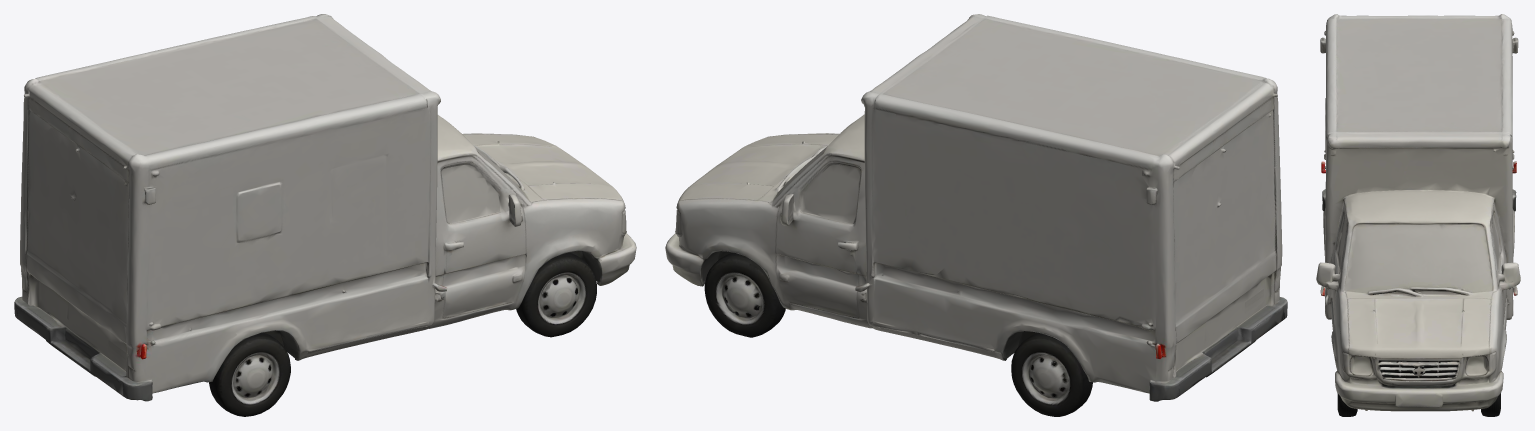
File: vehicle-cargo-van.glb
3 renders of one model, left to right at view 1: azimuth 30°, elevation 25°; view 2: azimuth 150°, elevation 25°; view 3: azimuth 270°, elevation 25°, orthographic. The views are drawn at different scales.
Visible parts, largest first — view 1: tripo_node_2541c3c2-4a29-4cbf-89cd-2e024337827b; view 2: tripo_node_2541c3c2-4a29-4cbf-89cd-2e024337827b; view 3: tripo_node_2541c3c2-4a29-4cbf-89cd-2e024337827b.
Part boxes in pixels (x1,y1,x2,y2): tripo_node_2541c3c2-4a29-4cbf-89cd-2e024337827b: (14, 14, 636, 416); tripo_node_2541c3c2-4a29-4cbf-89cd-2e024337827b: (665, 14, 1287, 416); tripo_node_2541c3c2-4a29-4cbf-89cd-2e024337827b: (1316, 14, 1520, 416).
Bounding box in the file's own units: 3.86 × 2 × 1.6.
Materials: 1 (1 with a texture image).
